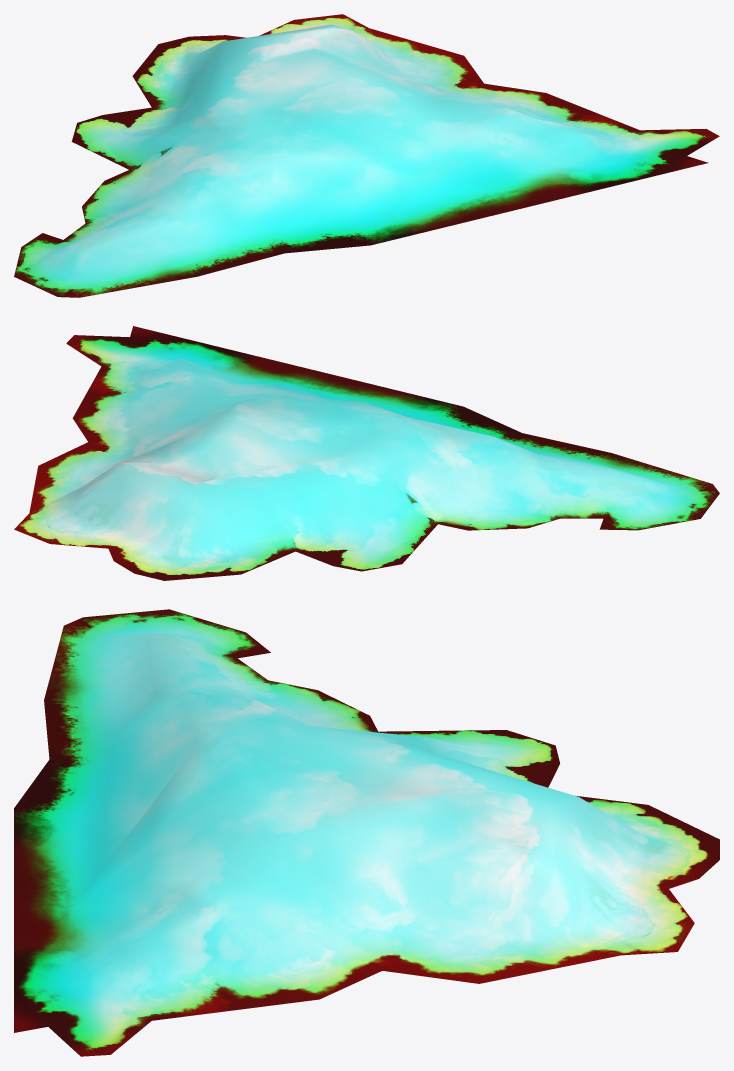
File: Mesh_QuantumMetaCloud_15.FBX
3 views of the same model, one above another, from view 1: azimuth 30°, elevation 25°; view 2: azimuth 150°, elevation 25°; view 3: azimuth 270°, elevation 25° (orthographic). The views are drawn at different scales.
Parts seen in each view (by area): view 1: Mesh_QuantumMetaCloud_15; view 2: Mesh_QuantumMetaCloud_15; view 3: Mesh_QuantumMetaCloud_15.
Part boxes in pixels (box(x1,y1,x2,y2)): Mesh_QuantumMetaCloud_15: box(14, 14, 719, 297); Mesh_QuantumMetaCloud_15: box(14, 326, 719, 580); Mesh_QuantumMetaCloud_15: box(14, 609, 719, 1056).
Bounding box in the file's own units: 750 × 500 × 58.02.
